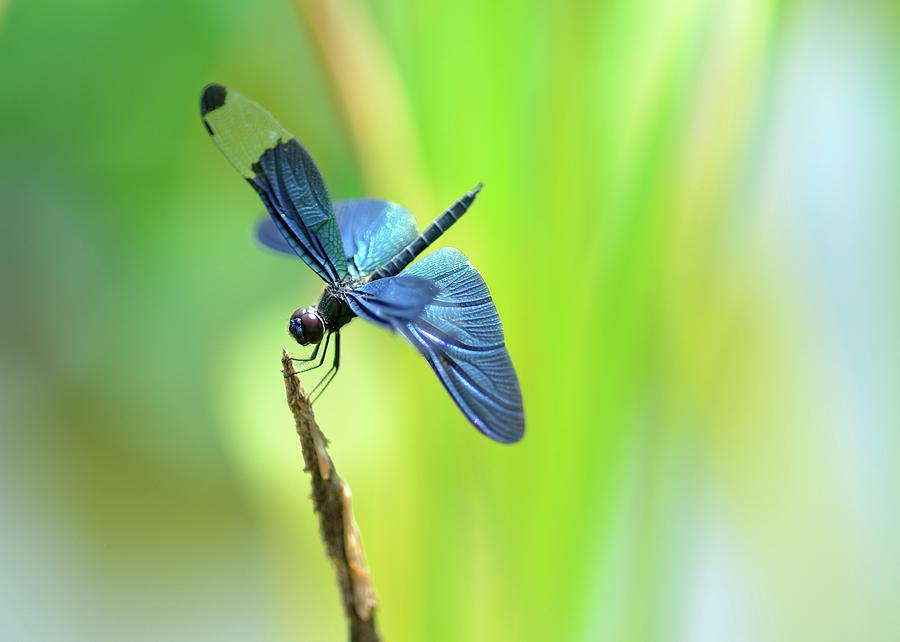insect: (198, 85, 525, 442)
